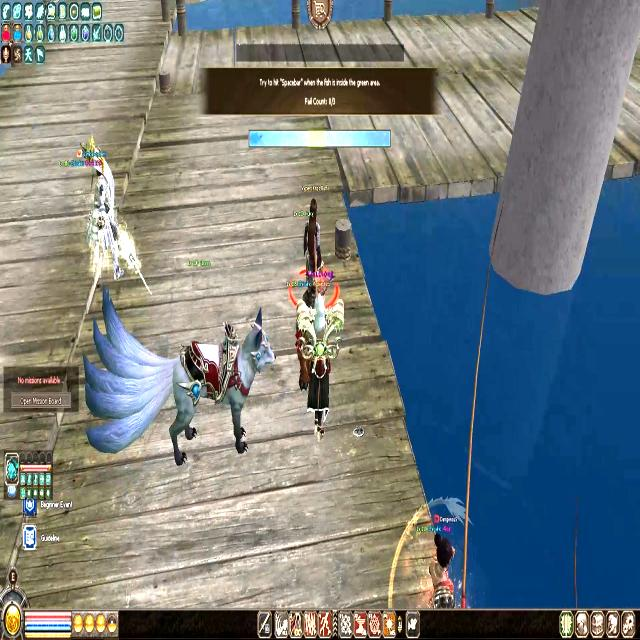fishes: (249, 131, 263, 146)
